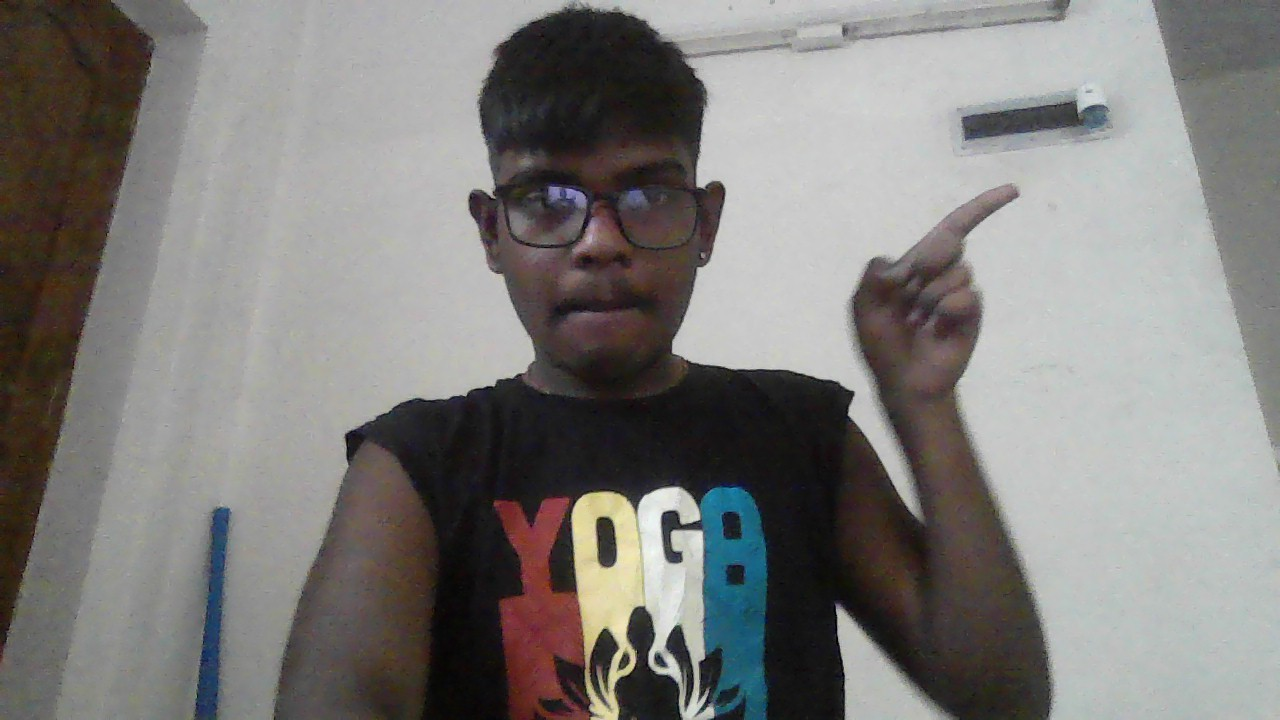Z: (853, 184, 1019, 393)
